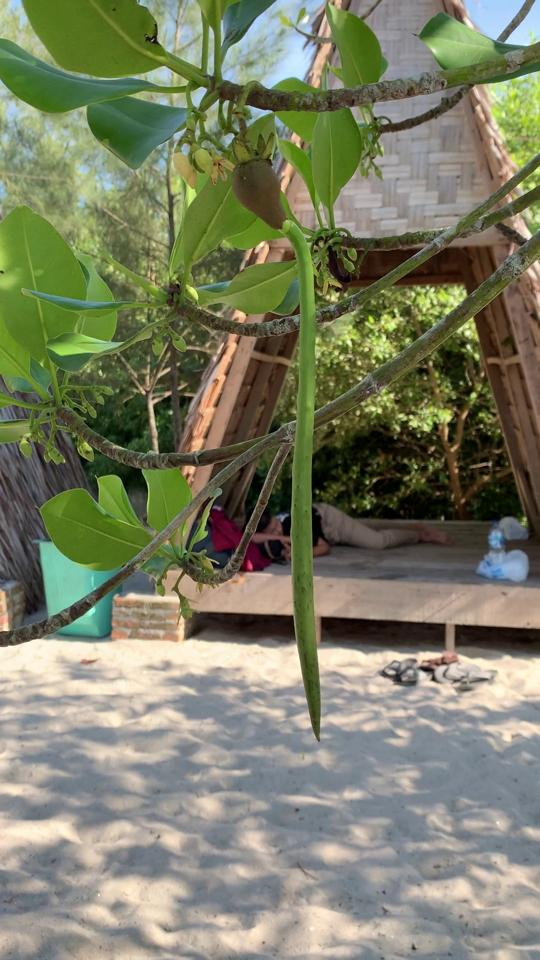setengah matang: (215, 129, 337, 749)
